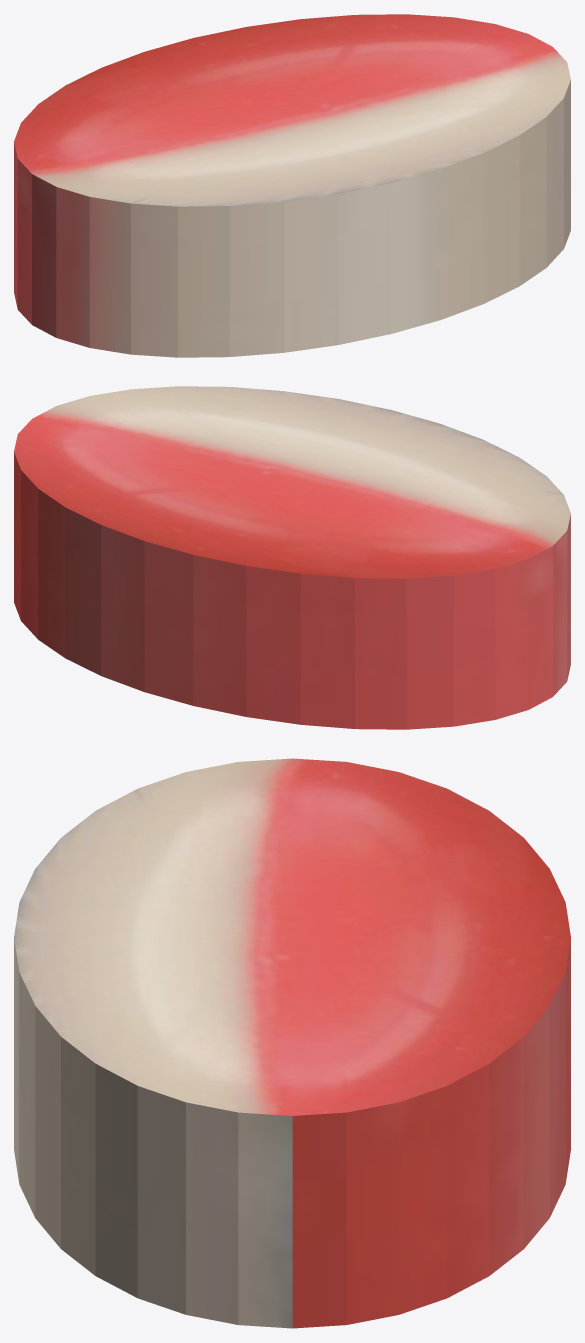
3 views of the same model, one above another, from view 1: azimuth 30°, elevation 25°; view 2: azimuth 150°, elevation 25°; view 3: azimuth 270°, elevation 25° (orthographic). The views are drawn at different scales.
Visible parts, largest first — view 1: 圓柱體; view 2: 圓柱體; view 3: 圓柱體.
Boxes of the visible parts, bbox=[...] form: 圓柱體: bbox=[14, 14, 570, 357]; 圓柱體: bbox=[14, 386, 570, 729]; 圓柱體: bbox=[14, 758, 570, 1328].
Size of the model in its own units: 1 by 0.278 by 0.6603.
